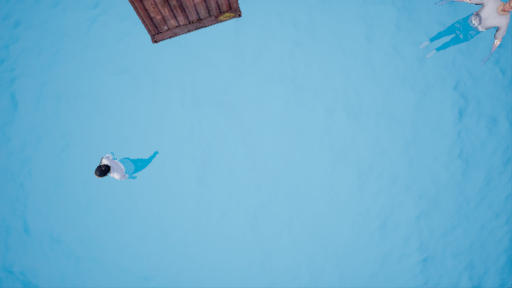person: (430, 1, 503, 63), (99, 143, 165, 183)
